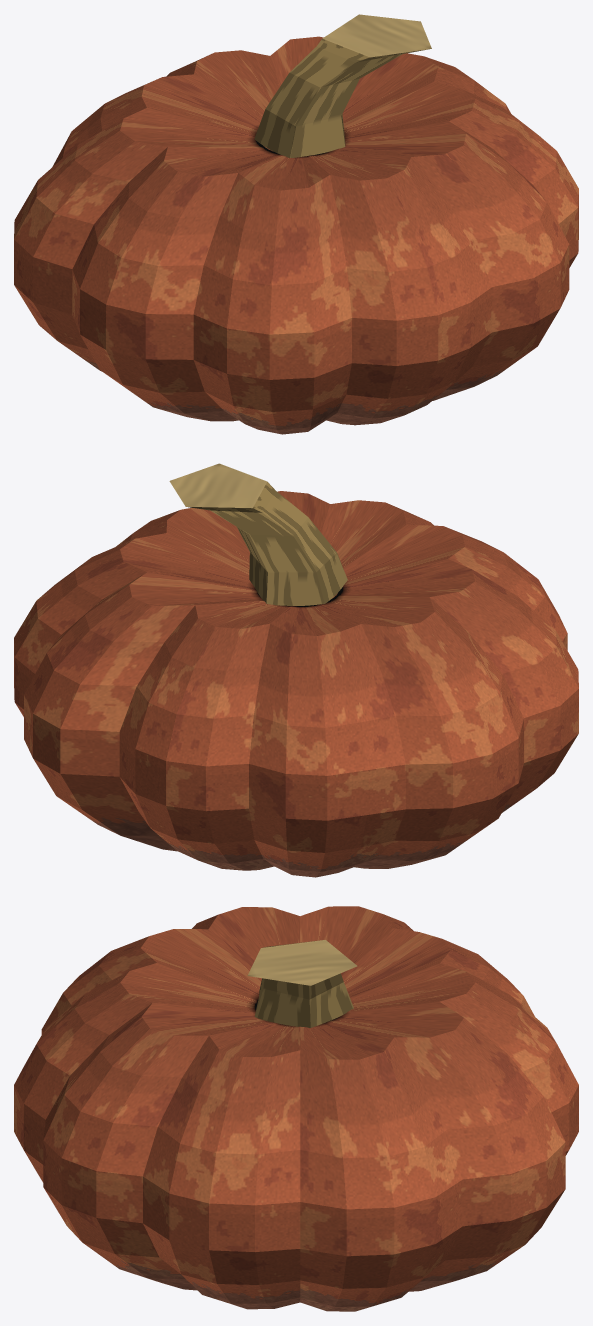
File: SM_Pumpkin_B.fbx
3 renders of one model, top to bottom at view 1: azimuth 30°, elevation 25°; view 2: azimuth 150°, elevation 25°; view 3: azimuth 270°, elevation 25°, orthographic. The views are drawn at different scales.
Visible parts, largest first — view 1: SM_Pumpkin_B; view 2: SM_Pumpkin_B; view 3: SM_Pumpkin_B.
Part boxes in pixels (x1,y1,x2,y2): SM_Pumpkin_B: [14, 14, 578, 434]; SM_Pumpkin_B: [14, 463, 578, 877]; SM_Pumpkin_B: [14, 906, 578, 1311].
Size of the model in its own units: 1.05 by 0.659 by 1.01.
1 material, 1 textured.
